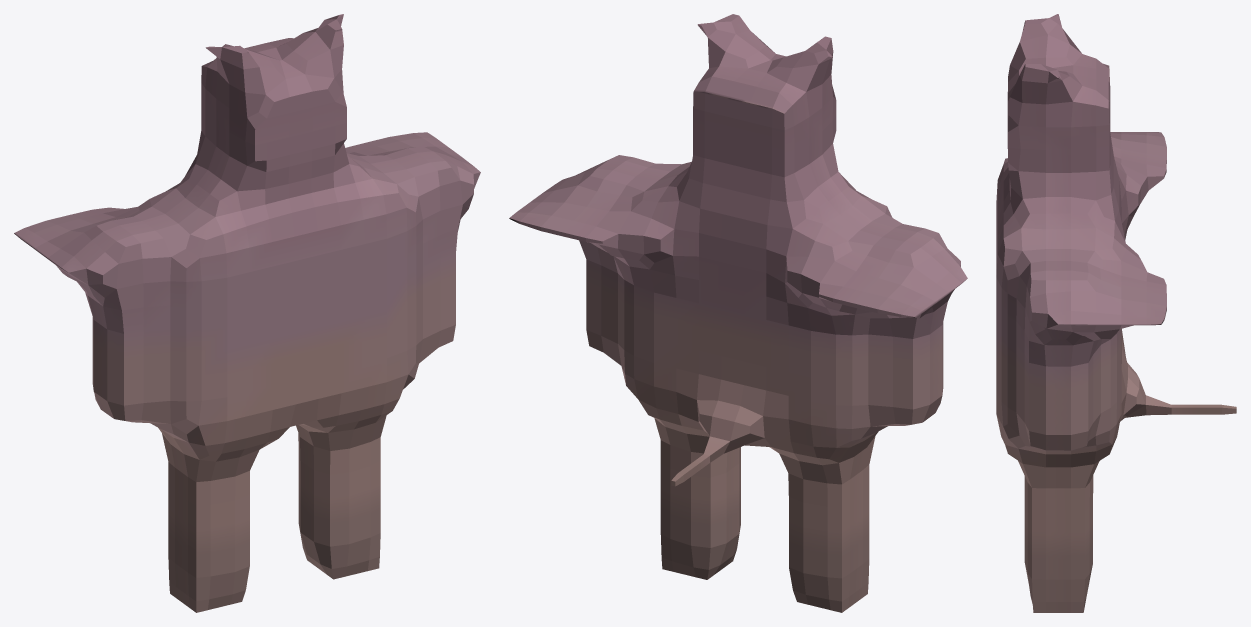
The model's file is demonKing.glb.
3 renders of one model, left to right at view 1: azimuth 30°, elevation 25°; view 2: azimuth 150°, elevation 25°; view 3: azimuth 270°, elevation 25°, orthographic. The views are drawn at different scales.
Parts seen in each view (by area): view 1: geometry_0; view 2: geometry_0; view 3: geometry_0.
Boxes of the visible parts, x1,y1,x2,y2 form: geometry_0: (14, 14, 480, 612); geometry_0: (509, 14, 967, 612); geometry_0: (996, 14, 1236, 612).
Size of the model in its own units: 0.7553 by 0.963 by 0.3981.
Materials: 1 (1 with a texture image).
